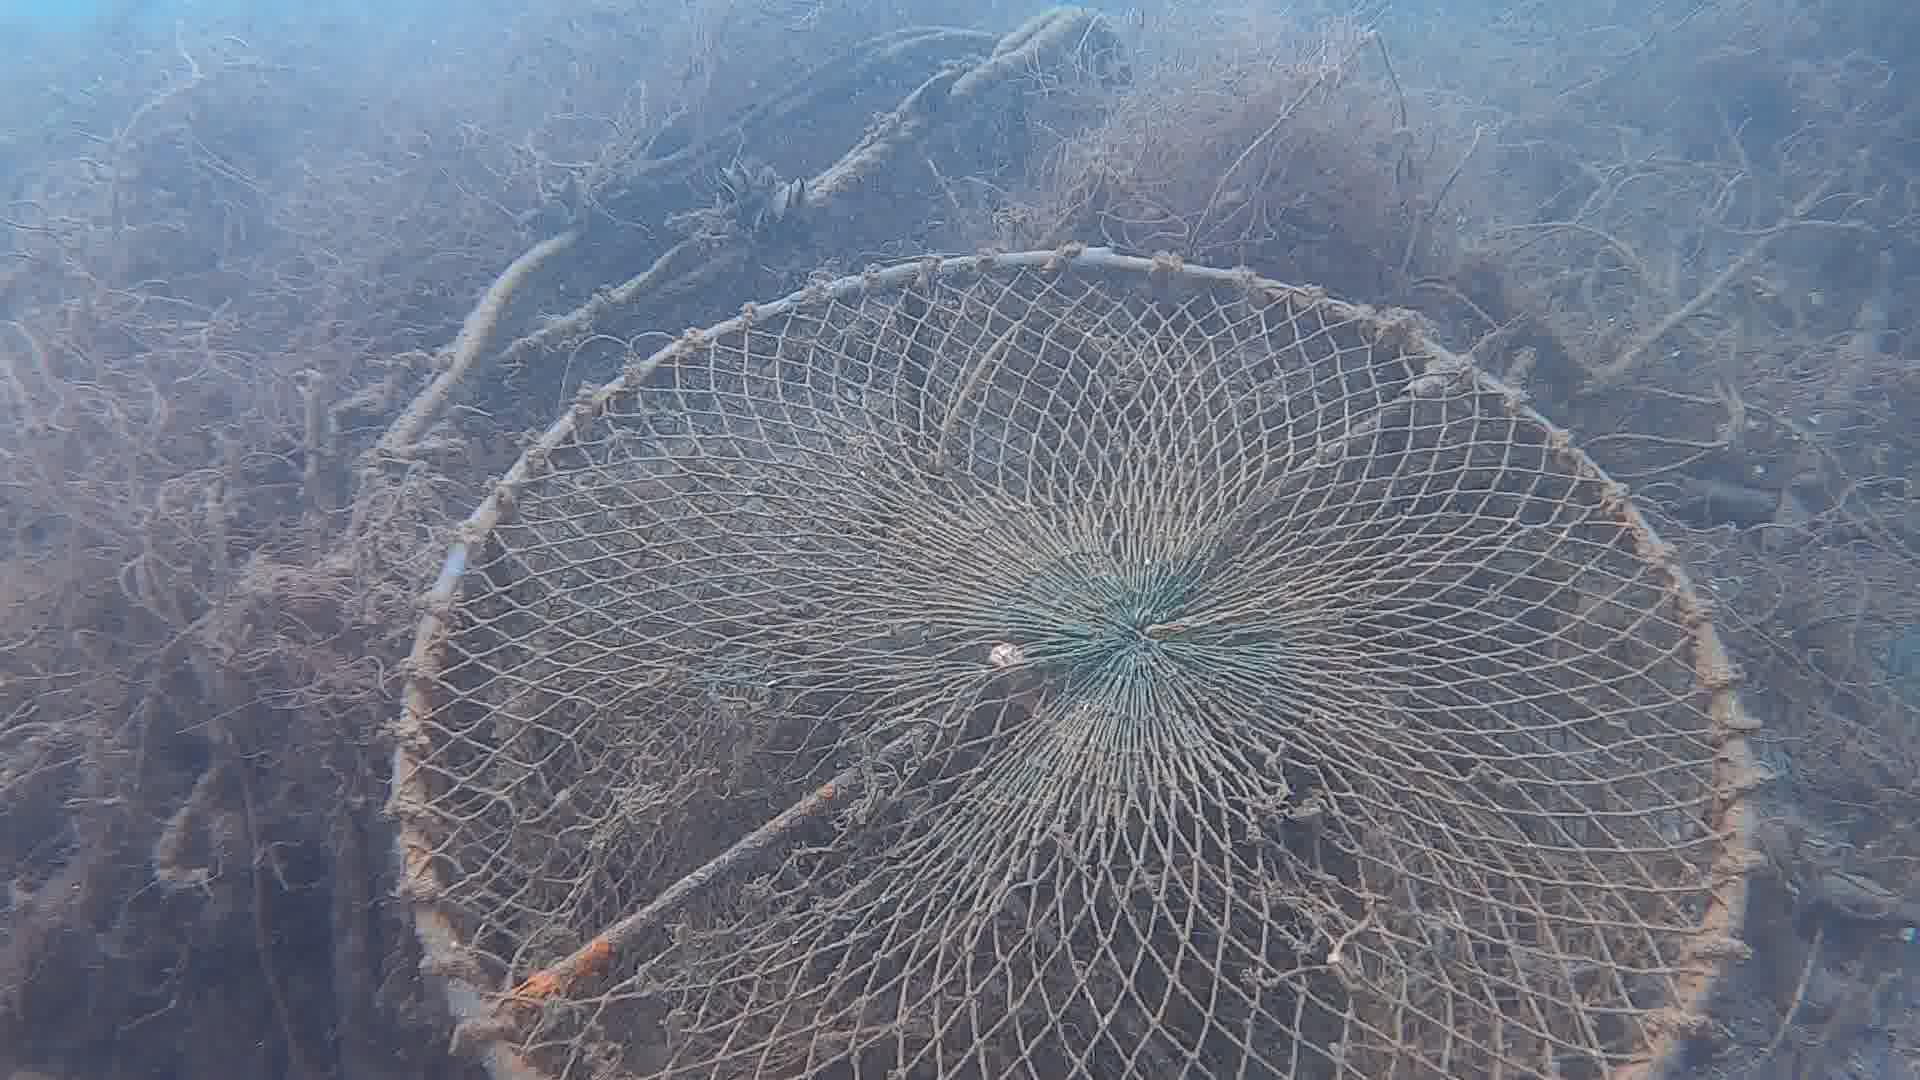circular fish trap: (386, 245, 1766, 1080)
